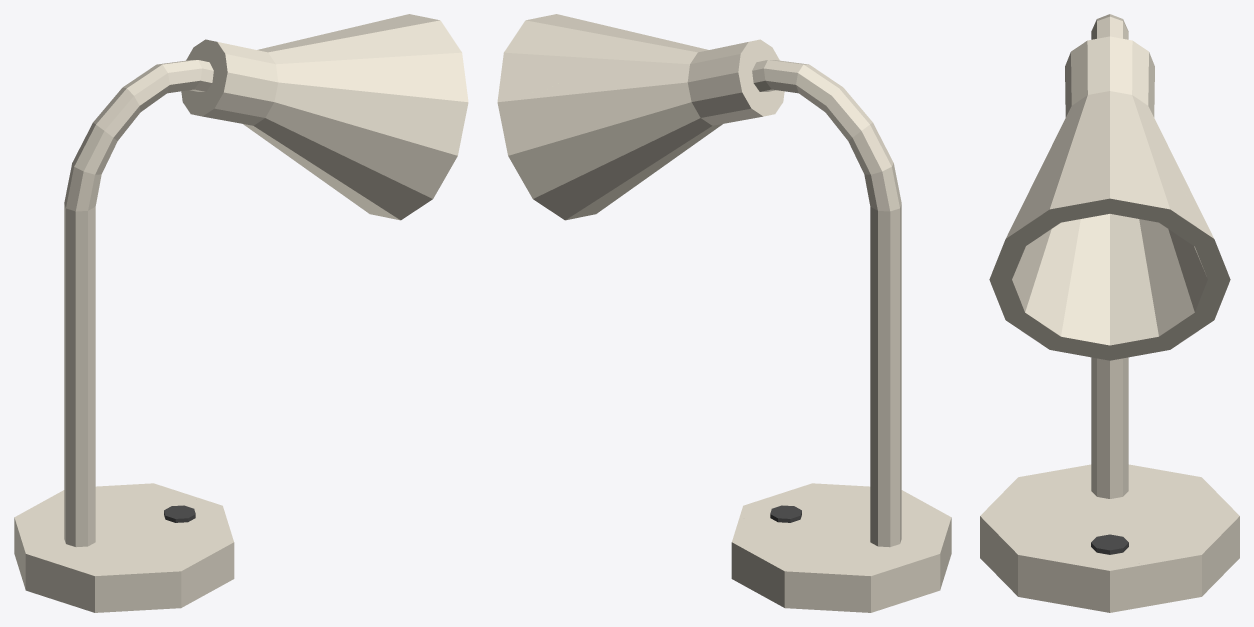
Rendered from Lamp_Bege.fbx.
The picture shows the model from 3 angles, left to right: view 1: azimuth 30°, elevation 25°; view 2: azimuth 150°, elevation 25°; view 3: azimuth 270°, elevation 25°; orthographic projection. The views are drawn at different scales.
Parts seen in each view (by area): view 1: Lamp.001; view 2: Lamp.001; view 3: Lamp.001.
Part boxes in pixels (<box>): Lamp.001: <box>14,14,468,612</box>; Lamp.001: <box>497,14,951,612</box>; Lamp.001: <box>980,14,1239,612</box>.
Bounding box in the file's own units: 29.47 × 34.09 × 14.
